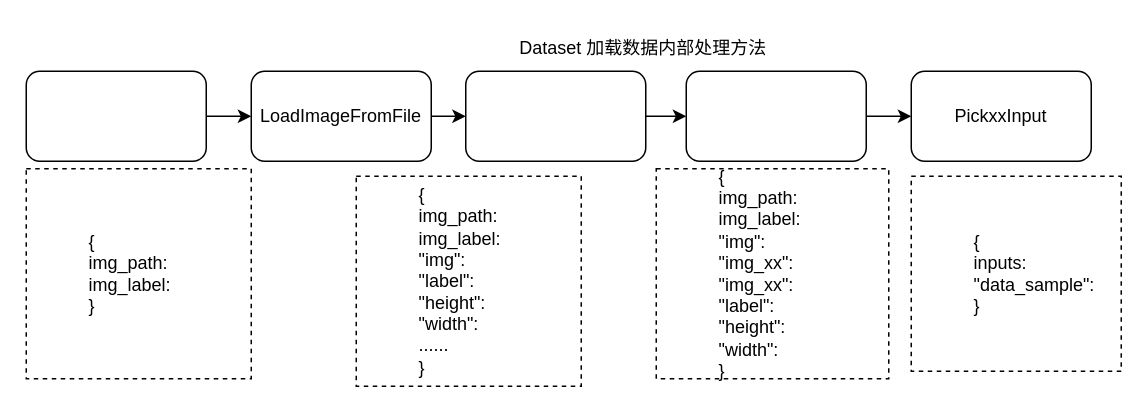
Image size: 1148x413. Some labels were removed from this diagram. Here are the shapes that lost their labels. From the top down, the centre of each, then its label:
At point 115,115: "Dataset".
At point 555,115: "LoadAnnotations".
At point 775,115: "Pipeline".
